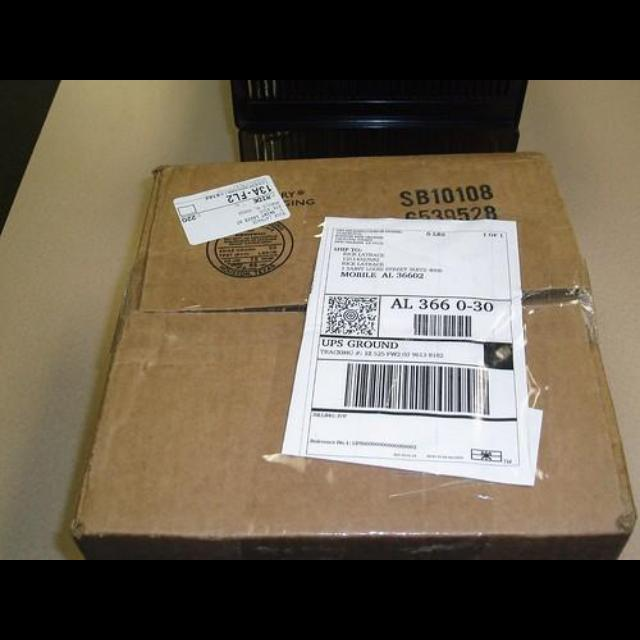papelão: (71, 149, 637, 559)
